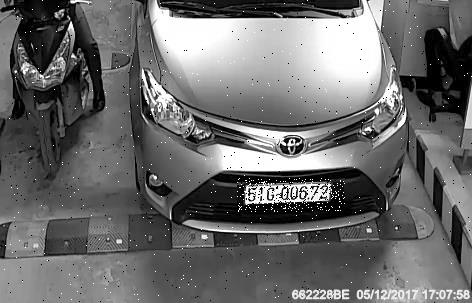License-plate: (239, 180, 347, 214)
